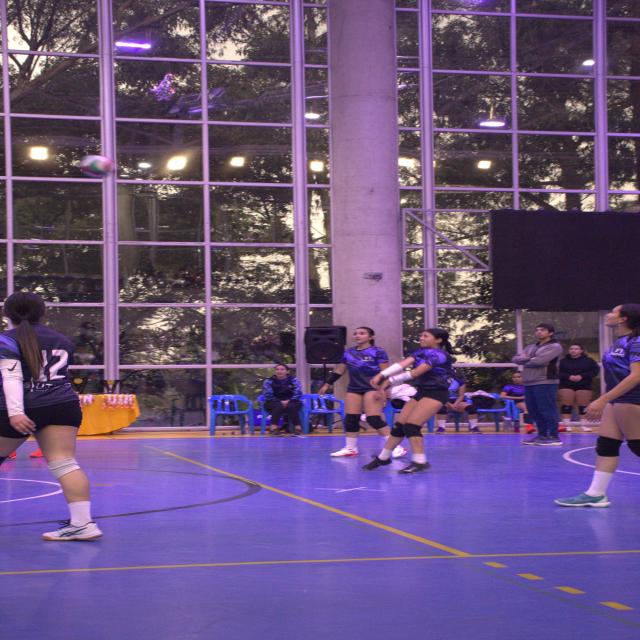volleyball: (80, 154, 116, 179)
